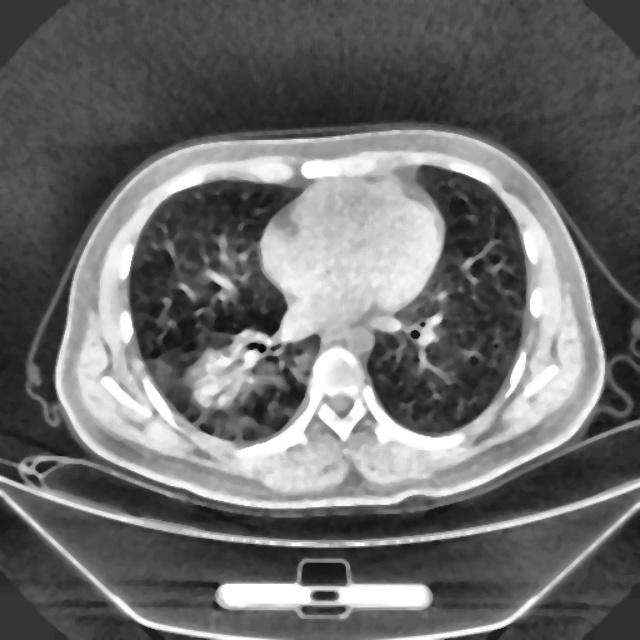covid: (46, 123, 605, 516)
